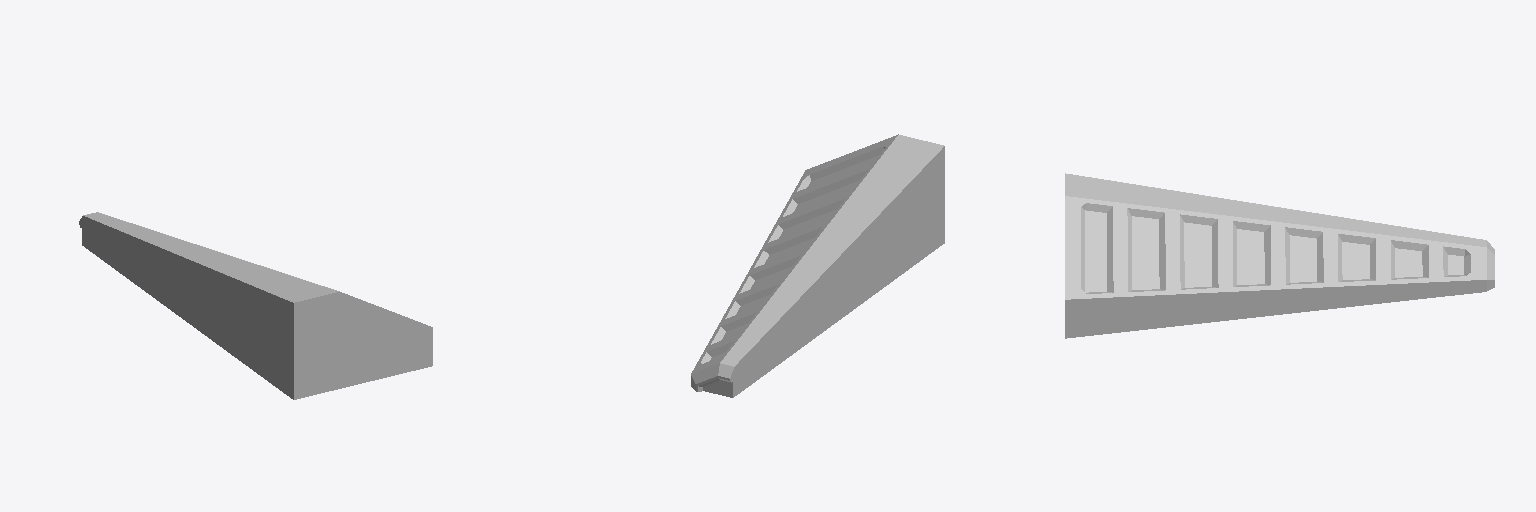
File: Spacestation_Structure_Fuselage_Long_Angled_Edge_Vented.obj
3 views of the same model, side by side, from view 1: azimuth 30°, elevation 25°; view 2: azimuth 150°, elevation 25°; view 3: azimuth 270°, elevation 25° (orthographic).
Visible parts, largest first — view 1: object3; view 2: object3, object1; view 3: object3, object1.
Part boxes in pixels (bbox=[...]): object3: bbox=[79, 212, 432, 399]; object3: bbox=[691, 134, 944, 395]; object1: bbox=[710, 156, 878, 360]; object3: bbox=[1065, 173, 1494, 338]; object1: bbox=[1085, 210, 1463, 292].
Size of the model in its own units: 1.5 by 1 by 4.